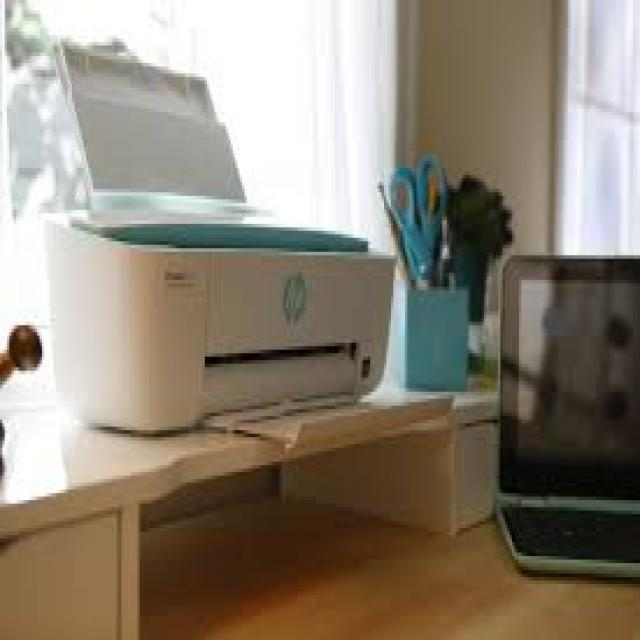printer: (41, 32, 397, 438)
